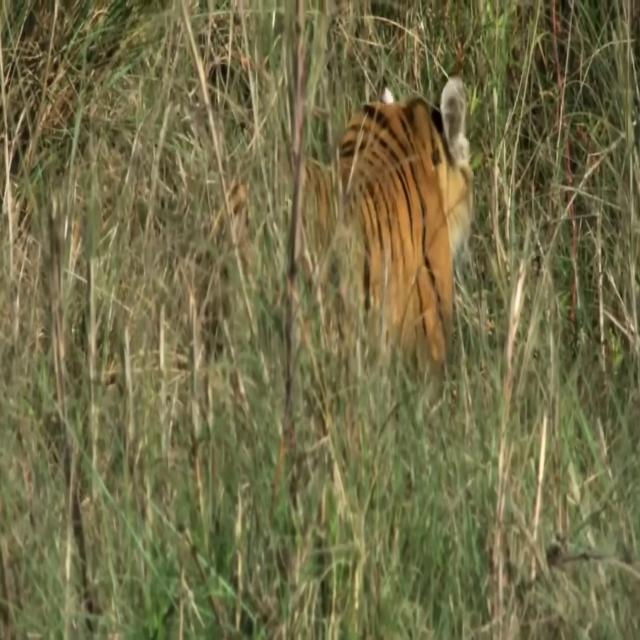tiger: (229, 74, 478, 365)
